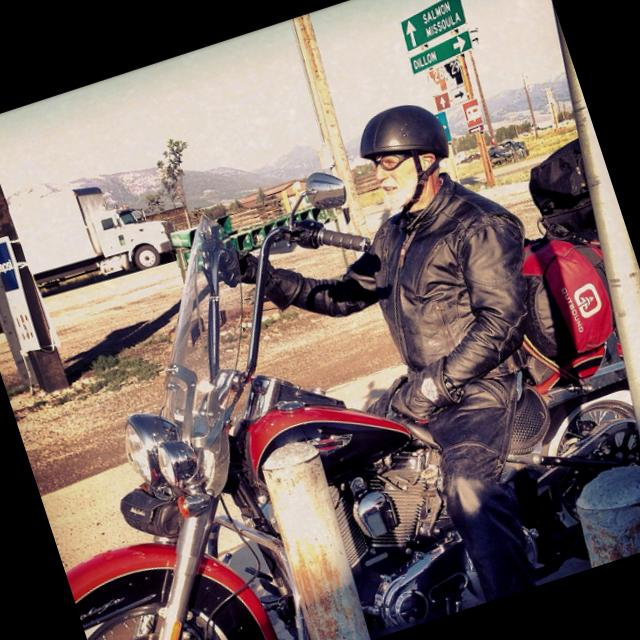Vehicle: (0, 220, 469, 640), (0, 155, 183, 319), (486, 134, 526, 160)
